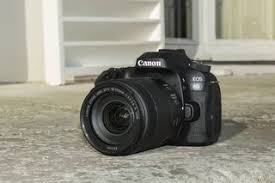camera: (80, 52, 223, 151)
